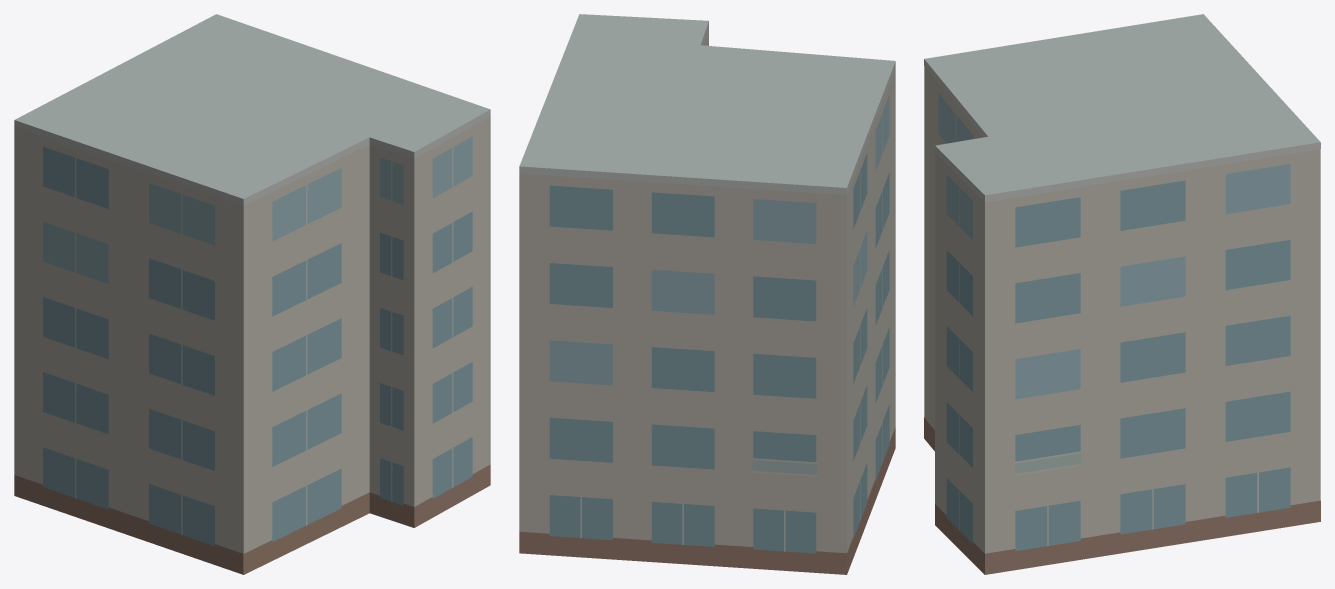
Rendered from survey-upis-32857763.glb.
The picture shows the model from 3 angles, left to right: view 1: azimuth 30°, elevation 25°; view 2: azimuth 150°, elevation 25°; view 3: azimuth 270°, elevation 25°; orthographic projection. The views are drawn at different scales.
Parts seen in each view (by area): view 1: survey-upis-32857763.tmp; view 2: survey-upis-32857763.tmp; view 3: survey-upis-32857763.tmp.
Boxes of the visible parts, <box> form: survey-upis-32857763.tmp: <box>14,14,490,574</box>; survey-upis-32857763.tmp: <box>519,14,895,574</box>; survey-upis-32857763.tmp: <box>924,14,1320,574</box>.
Bounding box in the file's own units: 13.69 × 13.35 × 12.66.
